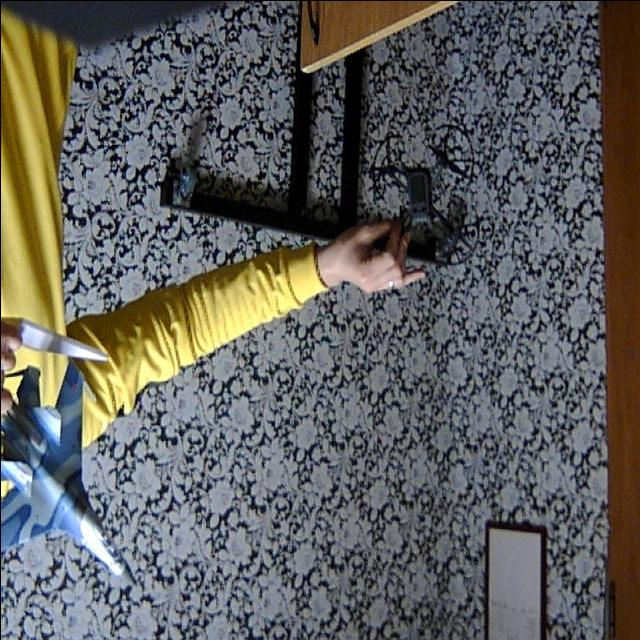drone: (360, 121, 484, 281)
